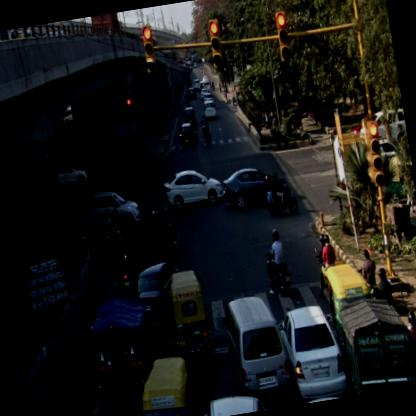car: (218, 292, 291, 401), (274, 300, 349, 402), (126, 257, 188, 335), (220, 163, 288, 213), (160, 163, 226, 212), (81, 184, 141, 230), (197, 391, 272, 415), (53, 152, 90, 194), (127, 142, 161, 174), (178, 122, 198, 147), (203, 100, 216, 117), (182, 106, 194, 124), (187, 86, 196, 100), (192, 79, 201, 90), (202, 73, 209, 84)
motorcycle: (260, 227, 290, 295), (263, 170, 299, 218), (111, 245, 132, 297), (156, 210, 178, 258), (406, 308, 415, 385), (201, 118, 210, 146)
truck: (82, 292, 166, 415), (336, 291, 415, 396)
